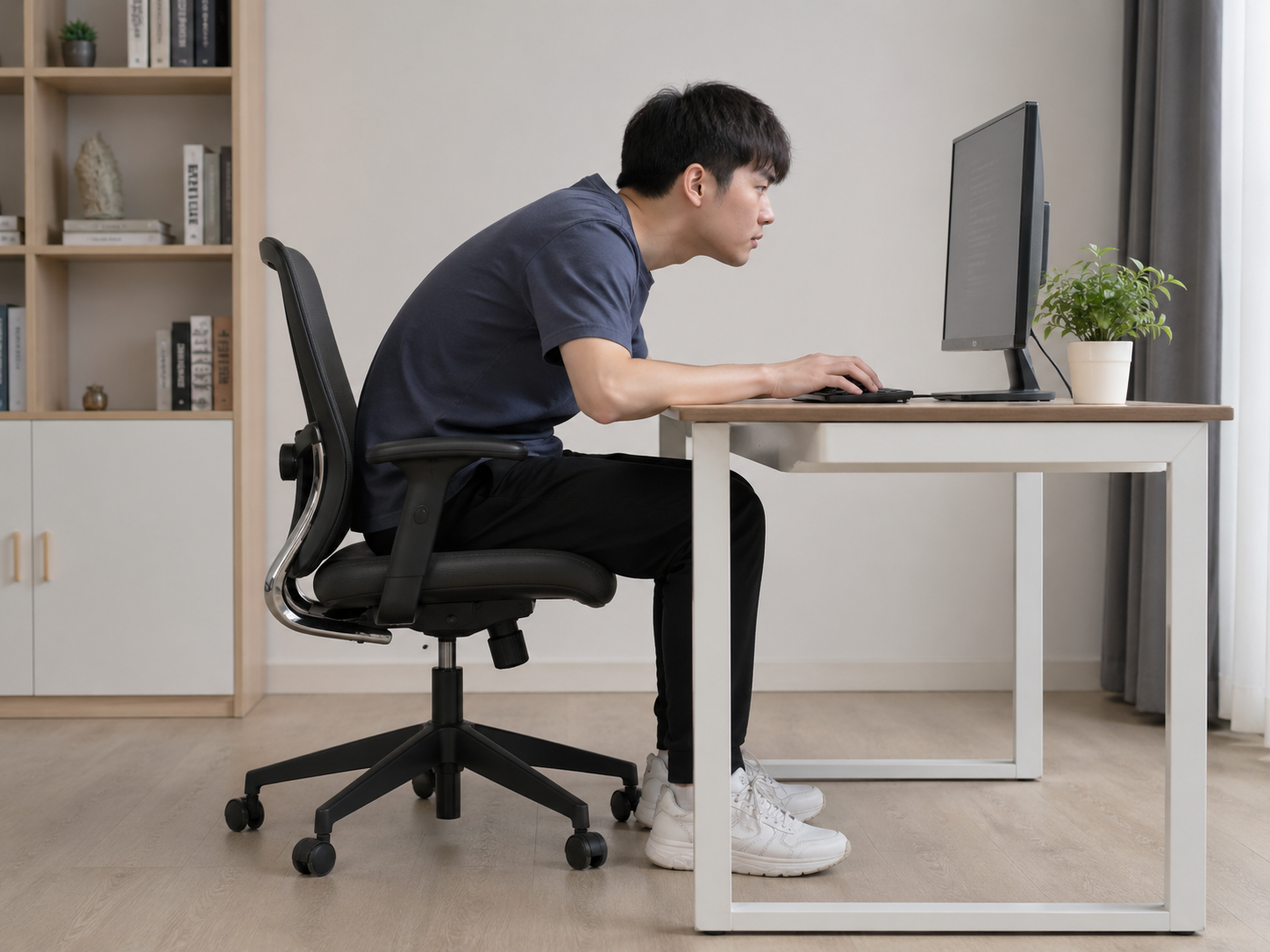sitting_bad: (287, 44, 875, 887)
